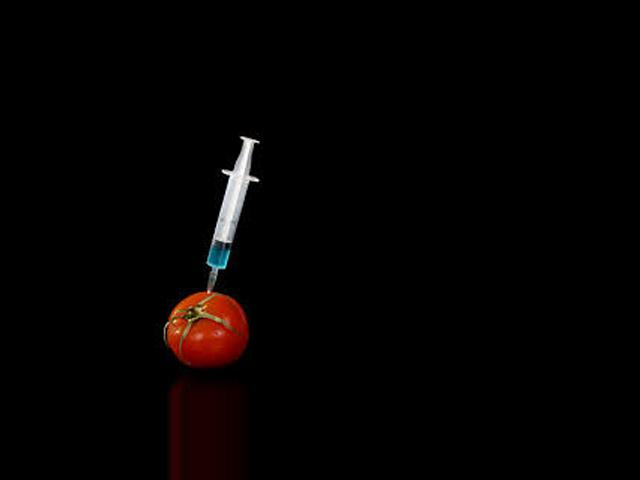tomato: (164, 291, 249, 366)
